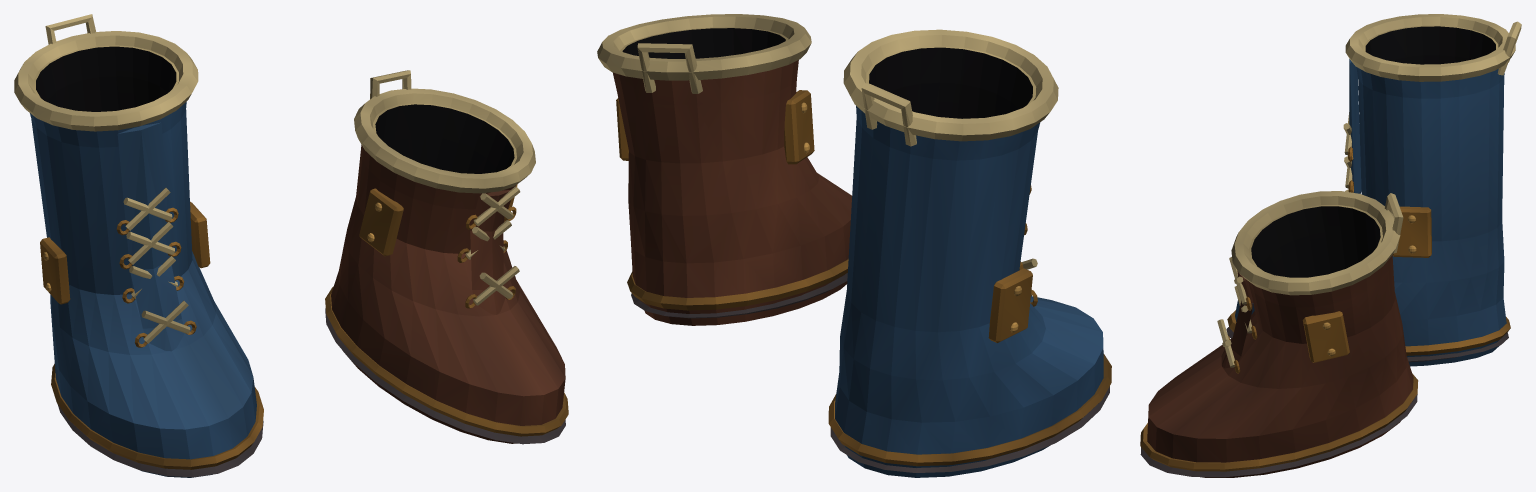
Rendered from sleepwalker_shoes.fbx.
The picture shows the model from 3 angles, left to right: view 1: azimuth 30°, elevation 25°; view 2: azimuth 150°, elevation 25°; view 3: azimuth 270°, elevation 25°; orthographic projection. The views are drawn at different scales.
Visible parts, largest first — view 1: sleepwalker_shoes; view 2: sleepwalker_shoes; view 3: sleepwalker_shoes.
Part boxes in pixels (<box>): sleepwalker_shoes: <box>14,14,568,477</box>; sleepwalker_shoes: <box>597,14,1111,477</box>; sleepwalker_shoes: <box>1140,14,1521,477</box>.
Bounding box in the file's own units: 2.84 × 2.18 × 2.38.
